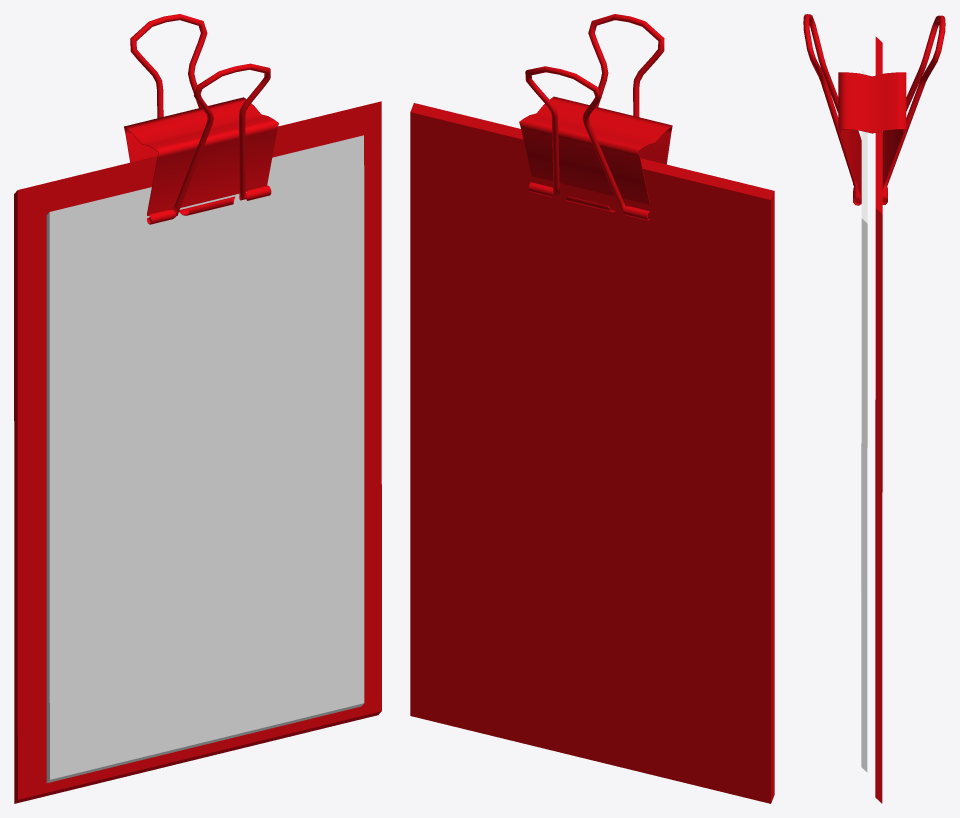
File: Folder.fbx
The picture shows the model from 3 angles, left to right: view 1: azimuth 30°, elevation 25°; view 2: azimuth 150°, elevation 25°; view 3: azimuth 270°, elevation 25°; orthographic projection. The views are drawn at different scales.
Parts seen in each view (by area): view 1: scene.obj.002; view 2: scene.obj.002; view 3: scene.obj.002.
Boxes of the visible parts, x1,y1,x2,y2 form: scene.obj.002: (14,14,381,803); scene.obj.002: (410,14,774,803); scene.obj.002: (803,14,945,803).
Bounding box in the file's own units: 0.2923 × 0.5539 × 0.1023.
